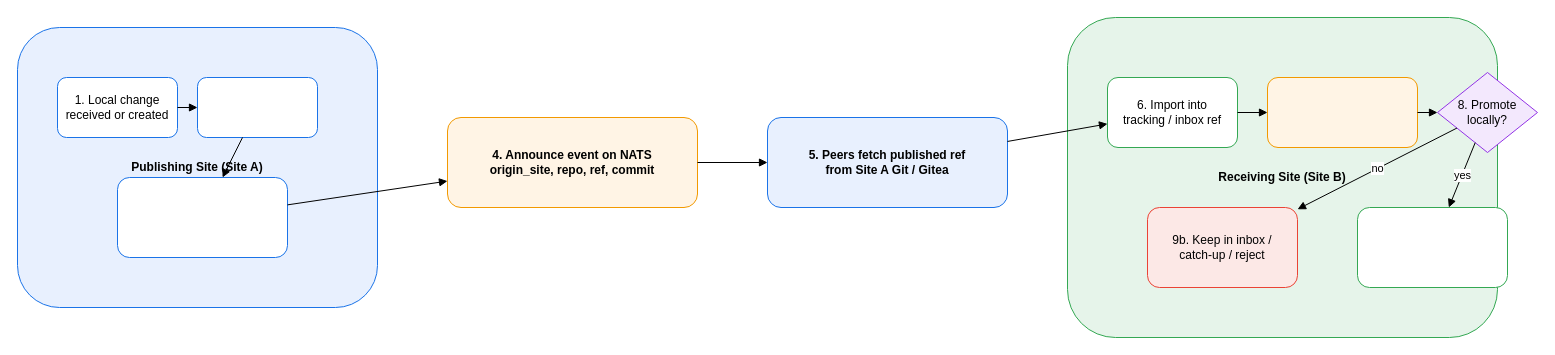
Image size: 1555x355. Some labels were removed from this diagram. The centre of each missing label's shape, as x and y in pixels:
"2. Commit change" belongs at (257,107).
"3. Update site-owned published ref refs/heads/site-a/published" belongs at (202,217).
"7. Validate trust, base, policy, schema" belongs at (1342,112).
"9a. Promote to integration / active branch" belongs at (1432,247).
